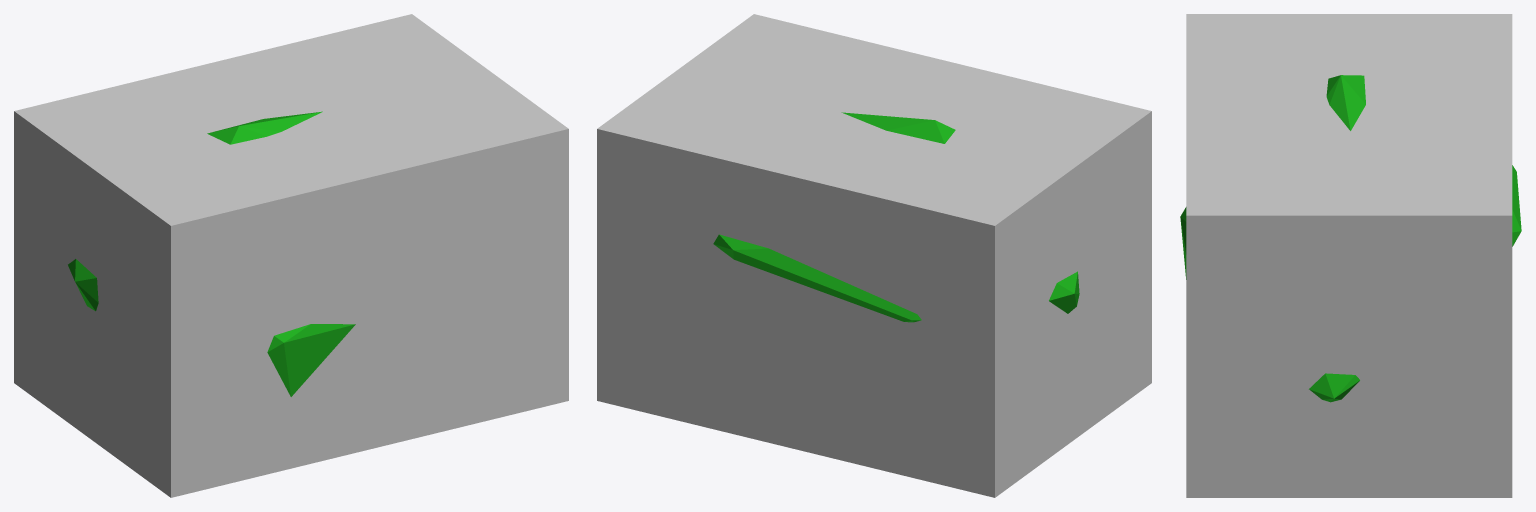
The model's file is 03_prismtwo.DAE.
The picture shows the model from 3 angles, left to right: view 1: azimuth 30°, elevation 25°; view 2: azimuth 150°, elevation 25°; view 3: azimuth 270°, elevation 25°; orthographic projection. The views are drawn at different scales.
Parts seen in each view (by area): view 1: bounds, col-1; view 2: bounds, col-1; view 3: bounds, col-1.
Part boxes in pixels (x1=…): bounds: x1=14, y1=14, x2=568, y2=497; col-1: x1=68, y1=111, x2=355, y2=396; bounds: x1=597, y1=14, x2=1151, y2=497; col-1: x1=713, y1=112, x2=1079, y2=322; bounds: x1=1186, y1=14, x2=1512, y2=497; col-1: x1=1180, y1=75, x2=1521, y2=402.
Size of the model in its own units: 15.21 by 10.39 by 9.92.
